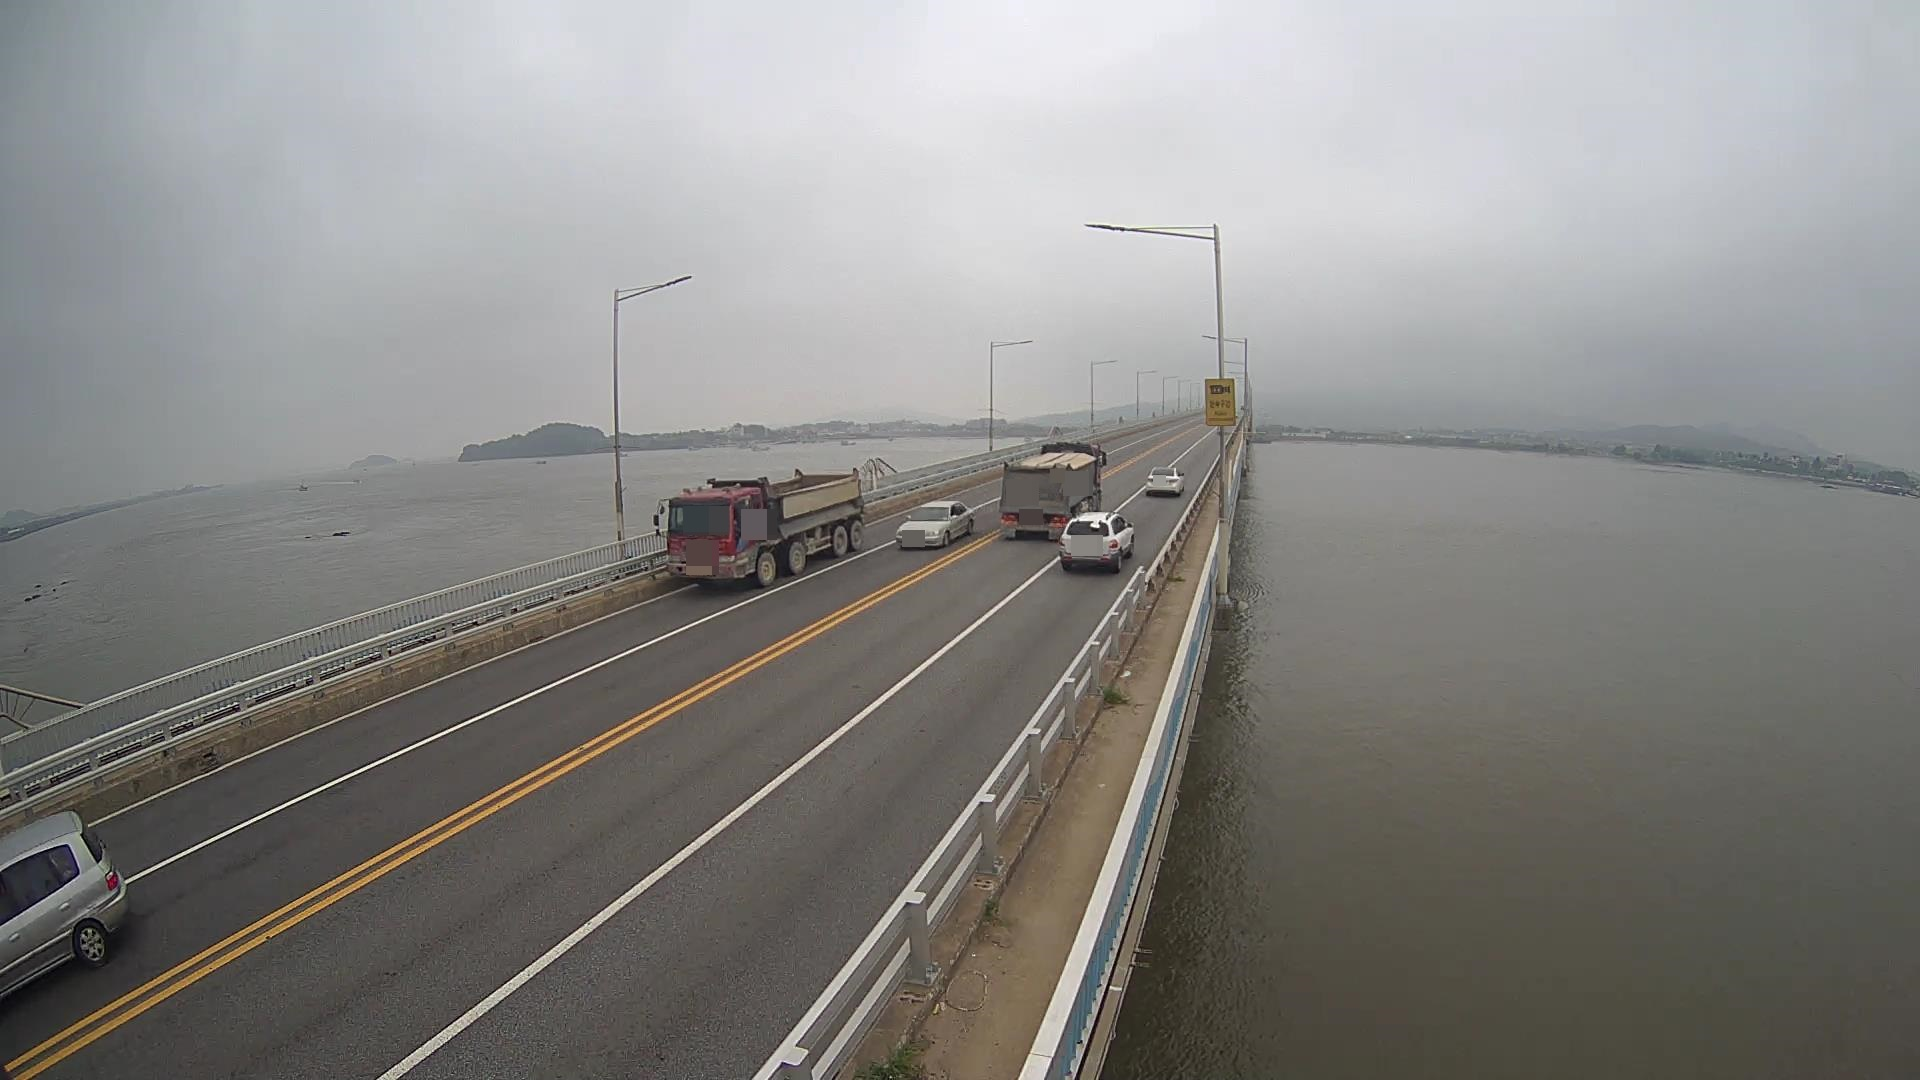정상차량: (653, 467, 867, 587)
